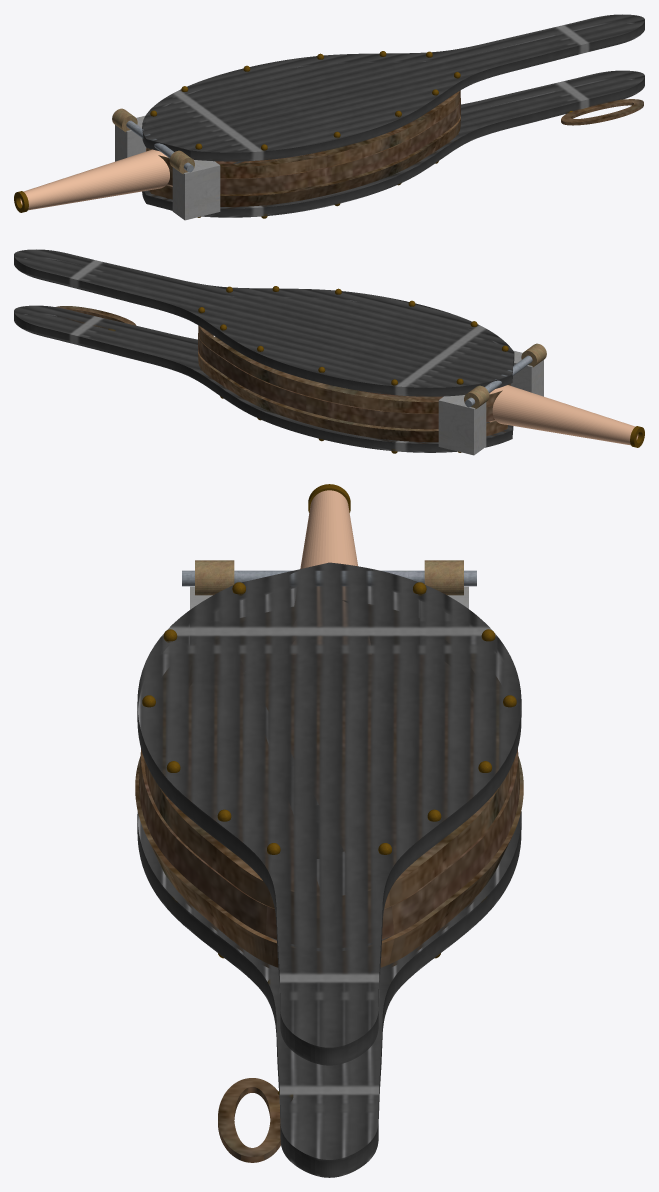
Rendered from pictureX_0611_Air_blower__0000.glb.
3 views of the same model, one above another, from view 1: azimuth 30°, elevation 25°; view 2: azimuth 150°, elevation 25°; view 3: azimuth 270°, elevation 25° (orthographic). The views are drawn at different scales.
Visible parts, largest first — view 1: upper_board::wood_panel, lower_board::wood_panel, lower_board::nozzle_shell, bellows_fold_0::fold_shell, bellows_fold_1::fold_shell, lower_board::bellows_lower_collar, lower_board::hinge_support_0, lower_board::wrist_strap, lower_board::hinge_support_1, upper_board::pivot_pin, lower_board::hinge_barrel_1, lower_board::hinge_barrel_0; view 2: upper_board::wood_panel, lower_board::wood_panel, bellows_fold_0::fold_shell, lower_board::nozzle_shell, bellows_fold_1::fold_shell, lower_board::bellows_lower_collar, lower_board::hinge_support_1, lower_board::hinge_support_0, lower_board::wrist_strap, upper_board::pivot_pin, lower_board::hinge_barrel_0, lower_board::hinge_barrel_1; view 3: upper_board::wood_panel, lower_board::wood_panel, bellows_fold_0::fold_shell, bellows_fold_1::fold_shell, lower_board::bellows_lower_collar, lower_board::nozzle_shell, lower_board::wrist_strap, upper_board::pivot_pin, lower_board::hinge_barrel_0, lower_board::hinge_barrel_1.
Part boxes in pixels (x1,y1,x2,y2): upper_board::wood_panel: (142, 14, 644, 161); lower_board::wood_panel: (142, 70, 644, 217); lower_board::nozzle_shell: (20, 149, 193, 210); bellows_fold_0::fold_shell: (146, 93, 460, 193); bellows_fold_1::fold_shell: (146, 90, 460, 178); lower_board::bellows_lower_collar: (148, 115, 460, 208); lower_board::hinge_support_0: (172, 160, 220, 220); lower_board::wrist_strap: (561, 99, 643, 125); lower_board::hinge_support_1: (115, 116, 146, 161); upper_board::pivot_pin: (114, 112, 193, 172); lower_board::hinge_barrel_1: (112, 108, 137, 132); lower_board::hinge_barrel_0: (169, 150, 194, 174); upper_board::wood_panel: (14, 249, 514, 396); lower_board::wood_panel: (14, 305, 513, 452); bellows_fold_0::fold_shell: (198, 329, 510, 429); lower_board::nozzle_shell: (489, 385, 638, 445); bellows_fold_1::fold_shell: (198, 325, 509, 413); lower_board::bellows_lower_collar: (198, 336, 507, 443); lower_board::hinge_support_1: (438, 395, 486, 455); lower_board::hinge_support_0: (510, 350, 543, 396); lower_board::wrist_strap: (56, 306, 136, 328); upper_board::pivot_pin: (465, 347, 544, 407); lower_board::hinge_barrel_0: (521, 343, 546, 367); lower_board::hinge_barrel_1: (464, 385, 489, 409); upper_board::wood_panel: (137, 562, 521, 1065); lower_board::wood_panel: (137, 708, 521, 1177); bellows_fold_0::fold_shell: (139, 636, 519, 947); bellows_fold_1::fold_shell: (144, 600, 514, 917); lower_board::bellows_lower_collar: (135, 756, 523, 972); lower_board::nozzle_shell: (292, 490, 369, 643); lower_board::wrist_strap: (218, 1078, 280, 1162); upper_board::pivot_pin: (182, 570, 476, 586); lower_board::hinge_barrel_0: (195, 560, 234, 595); lower_board::hinge_barrel_1: (424, 560, 463, 595).
Bounding box in the file's own units: 0.879 × 0.1079 × 0.2369.
Materials: 9 (8 with a texture image).
